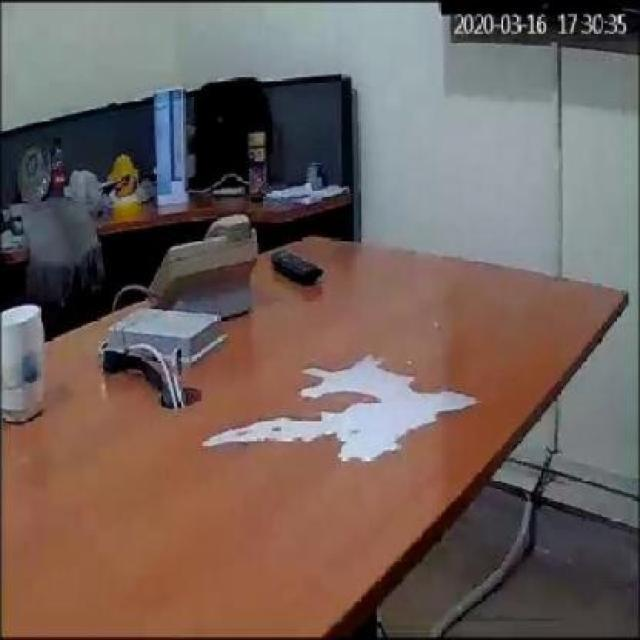spillage: (202, 354, 480, 460)
